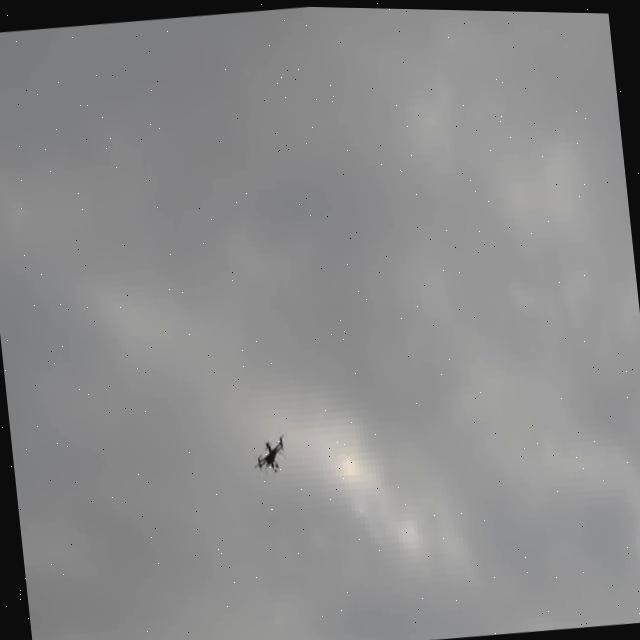drone: (250, 427, 290, 478)
